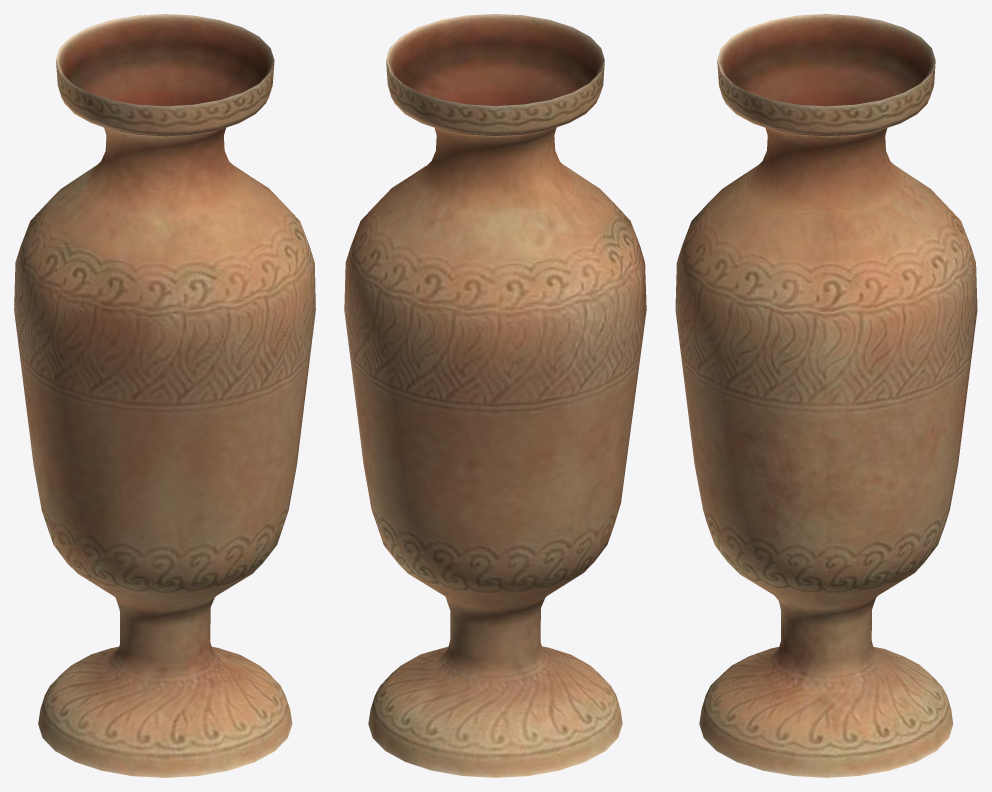
The model's file is brass_vase_03.glb.
3 renders of one model, left to right at view 1: azimuth 30°, elevation 25°; view 2: azimuth 150°, elevation 25°; view 3: azimuth 270°, elevation 25°, orthographic.
Visible parts, largest first — view 1: brass_vase_03; view 2: brass_vase_03; view 3: brass_vase_03.
Boxes of the visible parts, x1,y1,x2,y2 form: brass_vase_03: (14,14,315,777); brass_vase_03: (344,14,646,777); brass_vase_03: (675,14,977,777).
Bounding box in the file's own units: 0.0825 × 0.2002 × 0.0825.
Materials: 1 (1 with a texture image).
